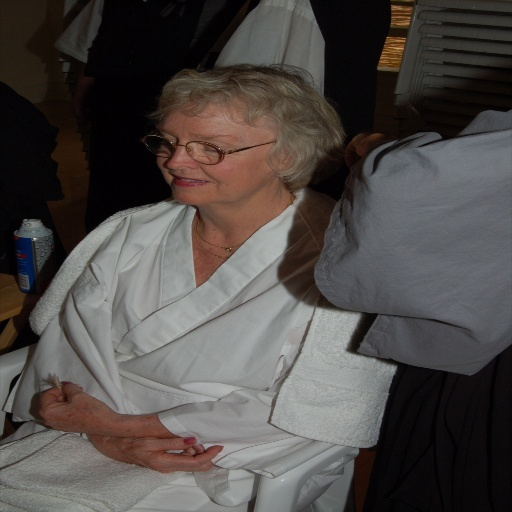hand: (98, 435, 225, 475), (30, 380, 120, 435), (341, 131, 385, 170)
